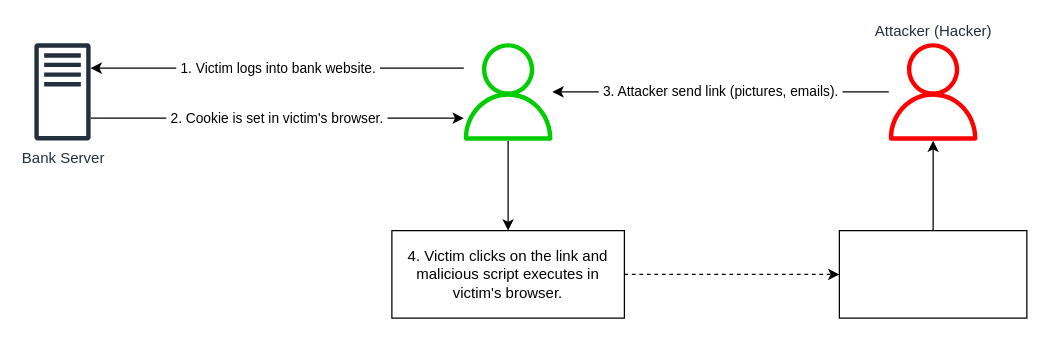
Image size: 1049x340. Some labels were removed from this diagram. Here are the shapes that lost their labels. From the top down, the centre of each, then its label:
At (x=507, y=91): "Victim (User)".
At (x=932, y=273): "5. Money is transferred to attacker's account.".
